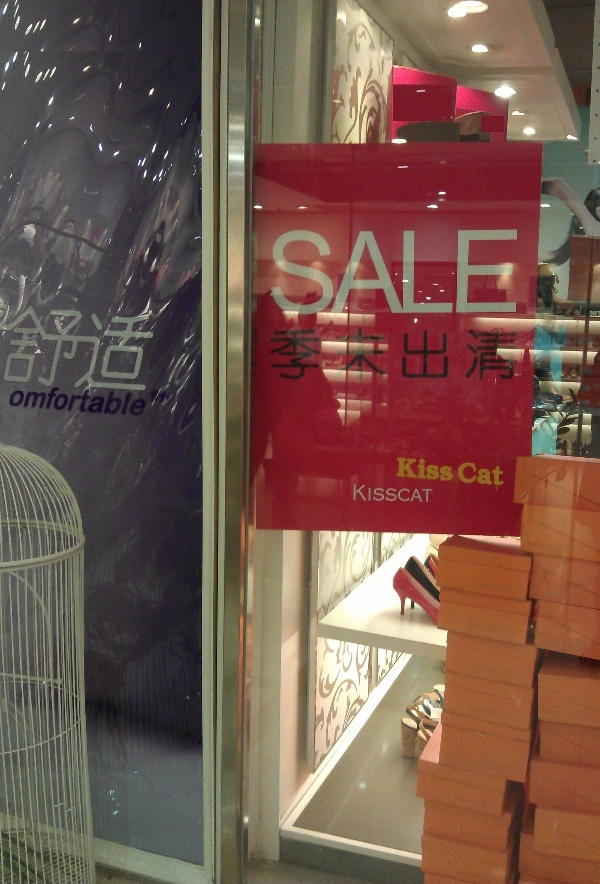text: (1, 302, 16, 393), (17, 302, 32, 393), (33, 302, 48, 393), (49, 302, 64, 393), (65, 302, 80, 393), (81, 302, 96, 393), (97, 302, 112, 393), (113, 302, 128, 393), (129, 302, 144, 393), (273, 228, 288, 316), (289, 228, 304, 316), (305, 228, 320, 316), (321, 228, 336, 316), (337, 228, 352, 316), (353, 228, 368, 316), (369, 228, 384, 316), (385, 228, 400, 316), (401, 228, 416, 316), (417, 228, 432, 316), (433, 228, 448, 316), (449, 228, 464, 316), (465, 228, 480, 316), (481, 228, 496, 316), (497, 228, 512, 316), (145, 302, 159, 393), (273, 326, 288, 382), (289, 326, 304, 382), (305, 326, 320, 382), (321, 326, 336, 382), (337, 326, 352, 382), (353, 326, 368, 382), (369, 326, 384, 382), (385, 326, 400, 382), (401, 326, 416, 382), (417, 326, 432, 382), (433, 326, 448, 382), (449, 326, 464, 382), (465, 326, 480, 382), (481, 326, 496, 382), (497, 326, 512, 382), (513, 228, 520, 316), (17, 385, 32, 418), (33, 385, 48, 418), (49, 385, 64, 418), (65, 385, 80, 418), (81, 385, 96, 418), (97, 385, 112, 418), (113, 385, 128, 418), (129, 385, 144, 418), (401, 455, 416, 483), (417, 455, 432, 483), (433, 455, 448, 483), (465, 462, 480, 488), (481, 462, 496, 488), (353, 484, 368, 505), (369, 484, 384, 505), (385, 484, 400, 505), (401, 484, 416, 505), (417, 484, 432, 505), (267, 326, 272, 382), (513, 326, 518, 382), (497, 462, 506, 488), (270, 228, 272, 316), (449, 455, 455, 483), (12, 385, 16, 418), (459, 462, 464, 488), (145, 385, 148, 418), (397, 455, 400, 483), (433, 484, 434, 505)
